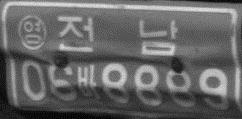0: (21, 59, 47, 102)
6: (48, 63, 76, 102)
8: (134, 63, 162, 107), (102, 63, 130, 106), (165, 67, 195, 107)
9: (198, 68, 230, 111)
바: (77, 63, 100, 100)
영: (16, 14, 48, 50)
전남_D: (57, 15, 178, 56)
